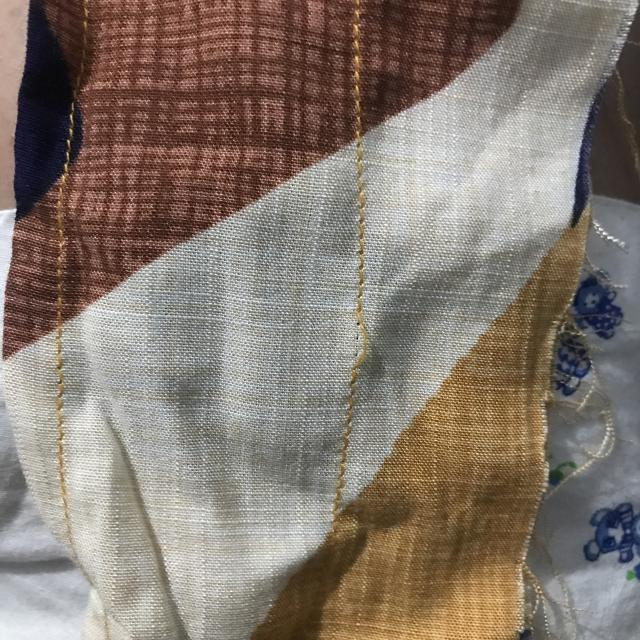good: (322, 169, 393, 276)
skip: (323, 289, 409, 392)
